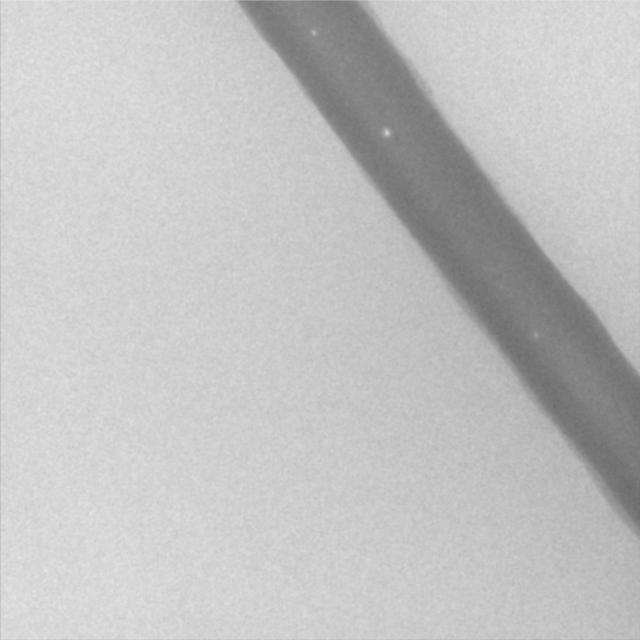air hole: (380, 126, 390, 137), (309, 27, 316, 37)
